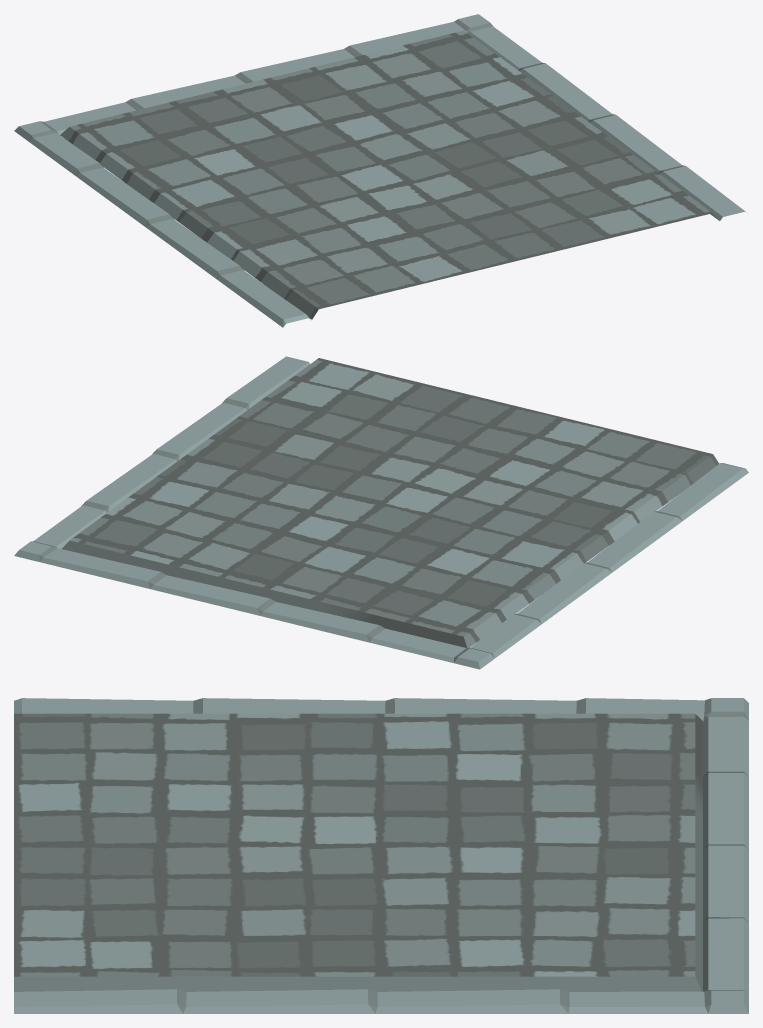
The model's file is NS_Terrain_Walkway_End.fbx.
3 views of the same model, one above another, from view 1: azimuth 30°, elevation 25°; view 2: azimuth 150°, elevation 25°; view 3: azimuth 270°, elevation 25° (orthographic). The views are drawn at different scales.
Visible parts, largest first — view 1: NS_Terrain_Walkway_End; view 2: NS_Terrain_Walkway_End; view 3: NS_Terrain_Walkway_End.
Part boxes in pixels (x1,y1,x2,y2): NS_Terrain_Walkway_End: [14, 14, 745, 327]; NS_Terrain_Walkway_End: [14, 356, 748, 669]; NS_Terrain_Walkway_End: [14, 698, 748, 1013].
Bounding box in the file's own units: 400 × 8.05 × 400.
